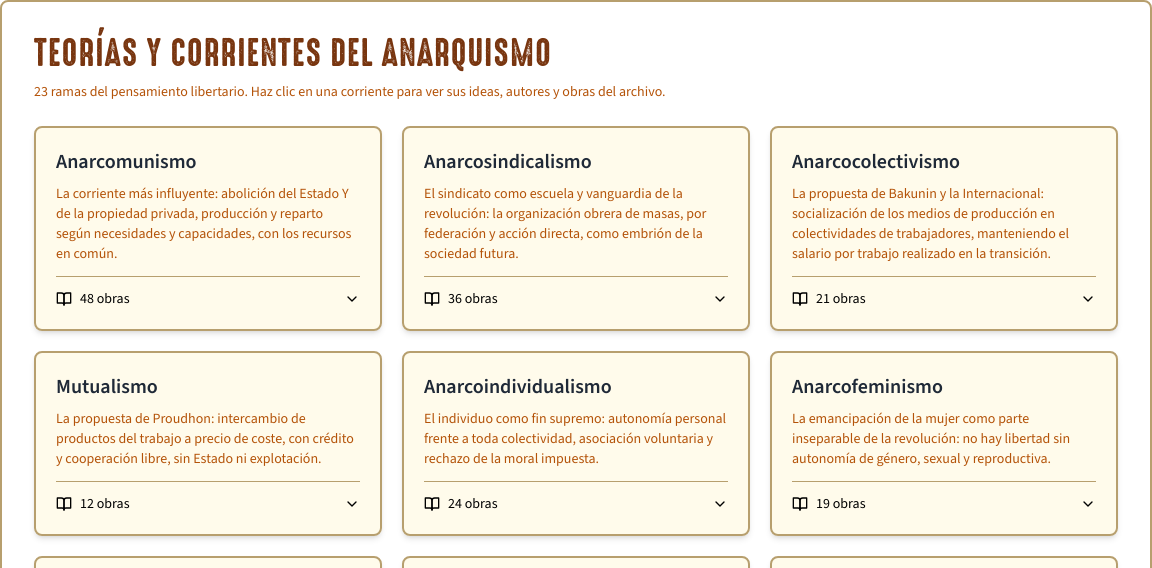
Test: TheoriesView › despliega ideas, autores y obras al hacer clic
The width and height of the screenshot is (1152, 568).
Click the heading "Anarcomunismo" at [126, 162], box x1=56 y1=148 x2=197 y2=175
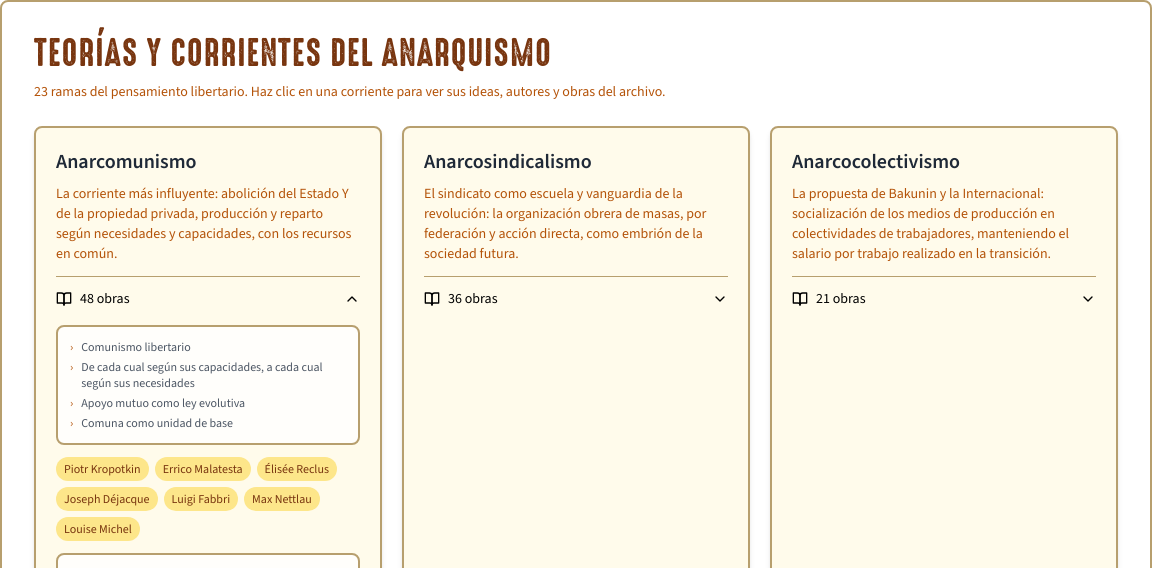
expect the list item "Comunismo libertario" is shown: met, box x1=81 y1=339 x2=191 y2=355
